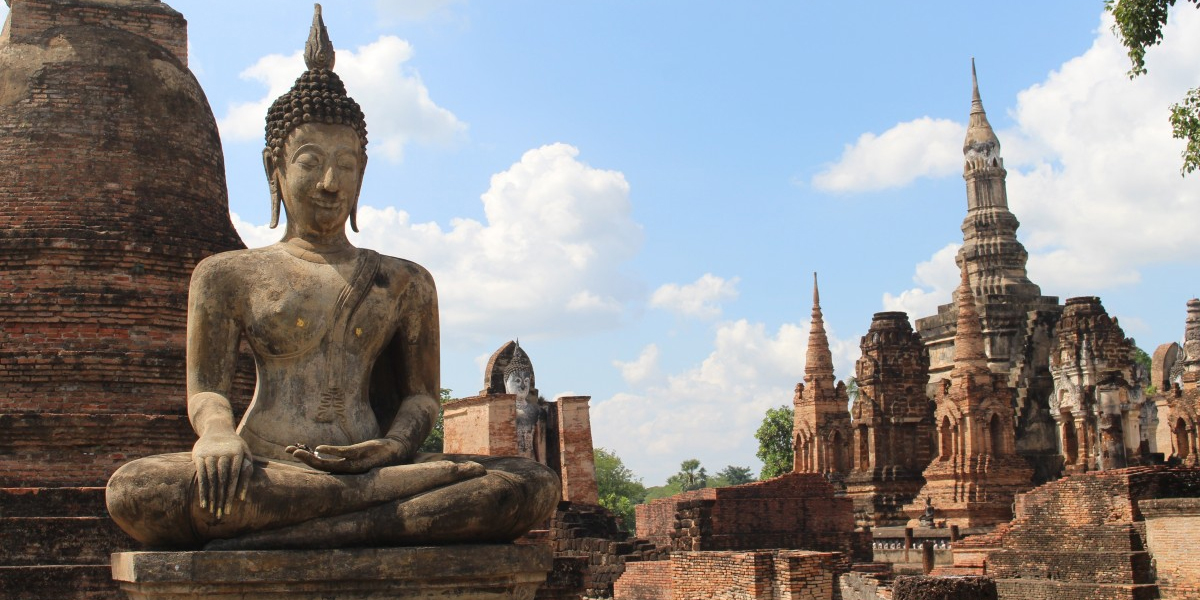Buddhist Temple: (123, 7, 534, 523)
